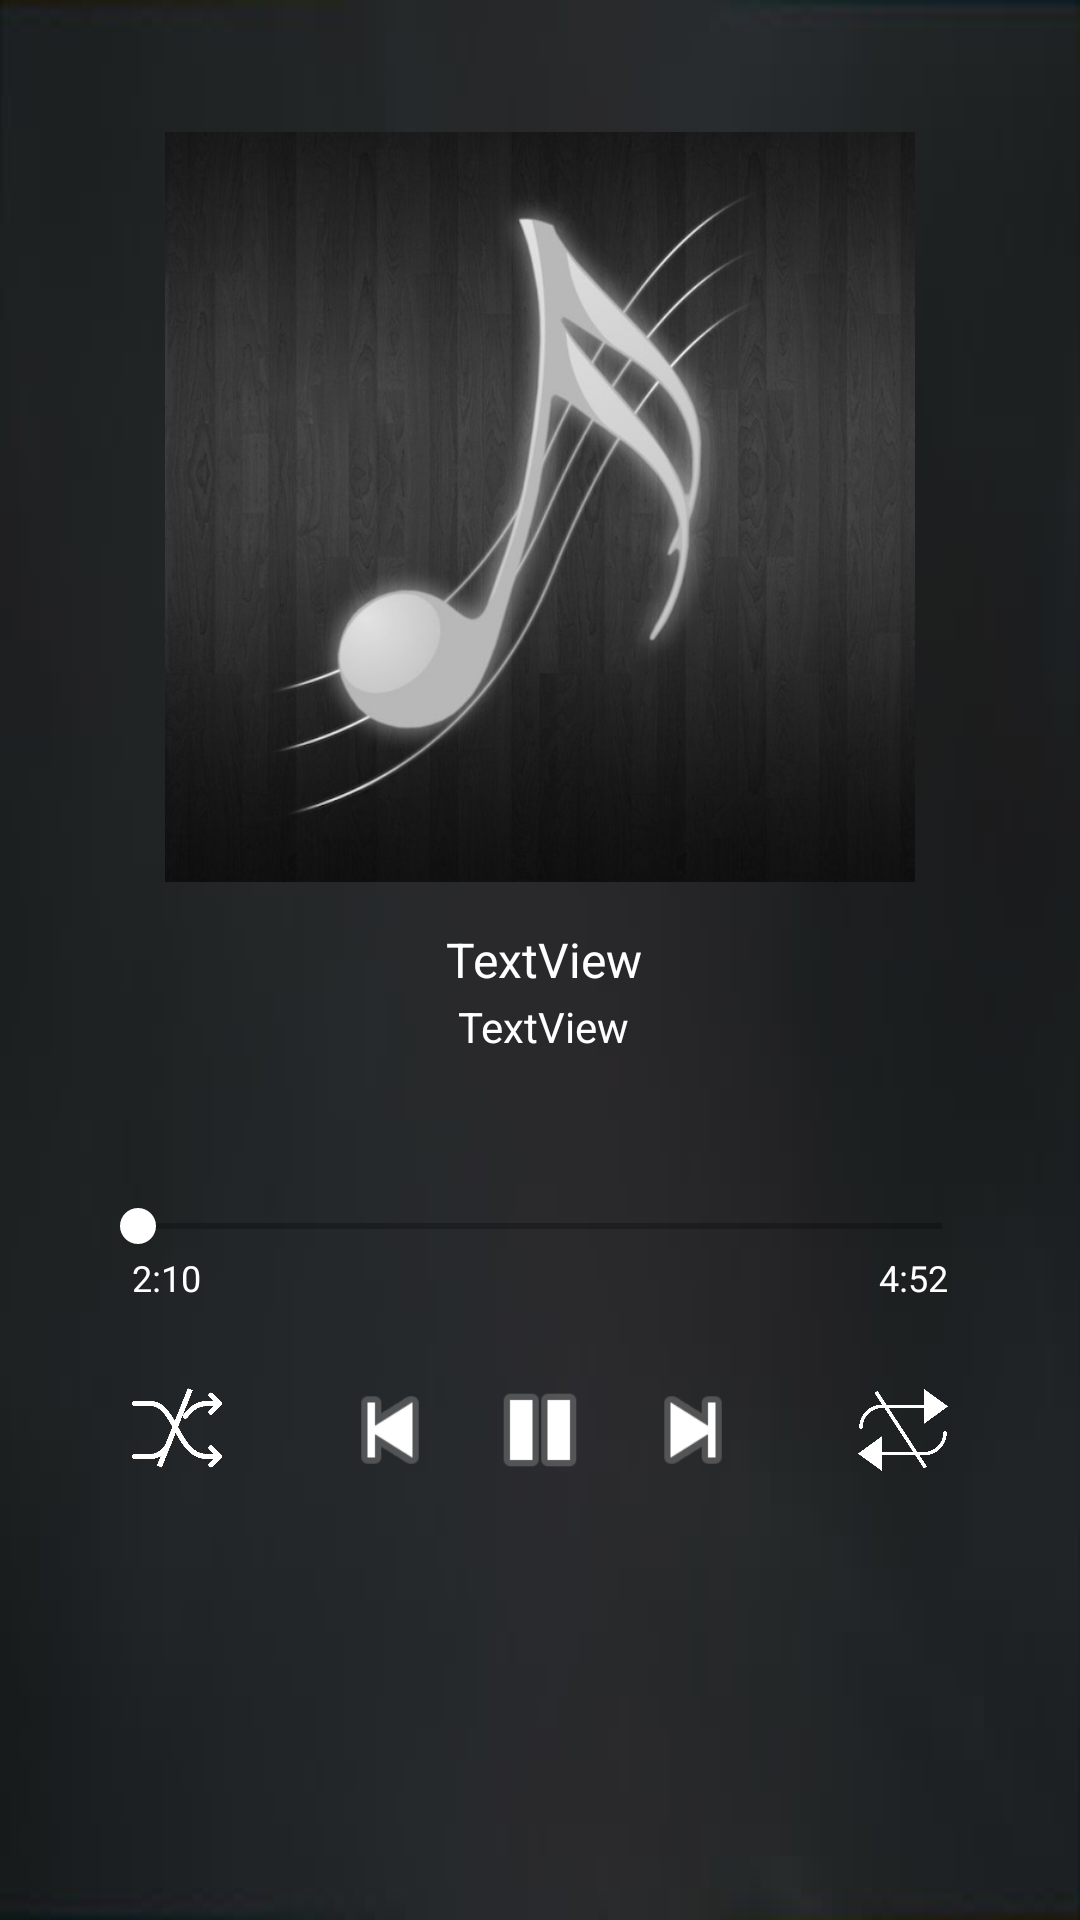

Where icons sit on this 1080px x 1920px app screen, as (x1, y1, x2, y2):
next: (664, 1396, 722, 1464)
pause: (504, 1394, 576, 1466)
previous: (361, 1396, 419, 1464)
repnone: (858, 1389, 948, 1471)
